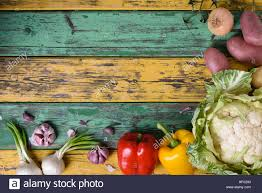Lettuce: (199, 74, 262, 164)
Onion: (5, 116, 44, 176), (207, 11, 233, 35)
Tomato: (122, 124, 156, 176)
